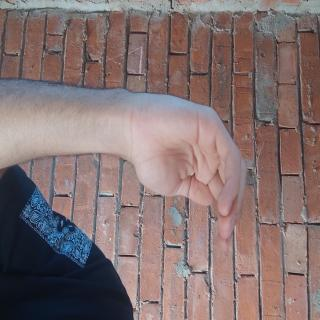HAA: (63, 90, 184, 273)
